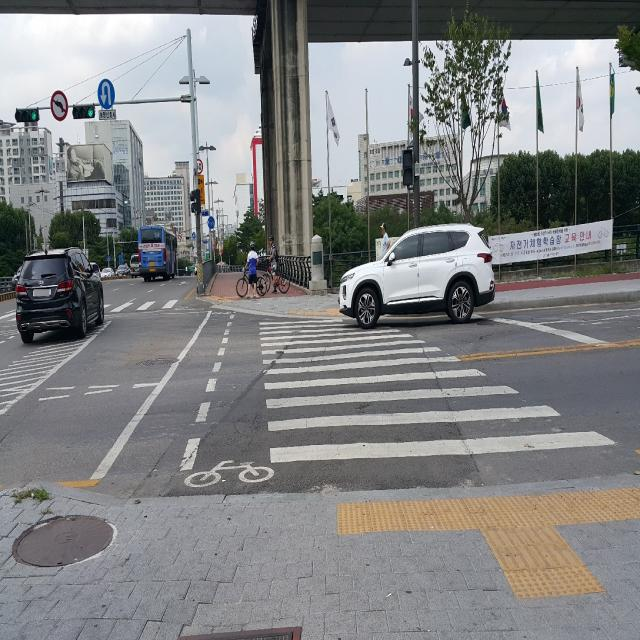횡단보도: (256, 314, 617, 468), (108, 300, 187, 309)
